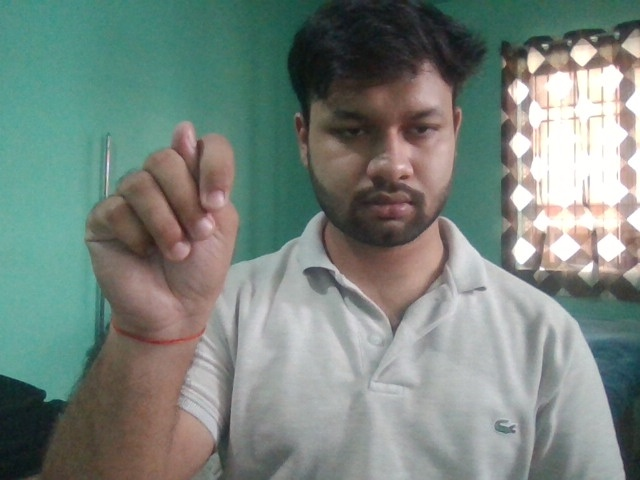Bathroom: (84, 121, 242, 341)
